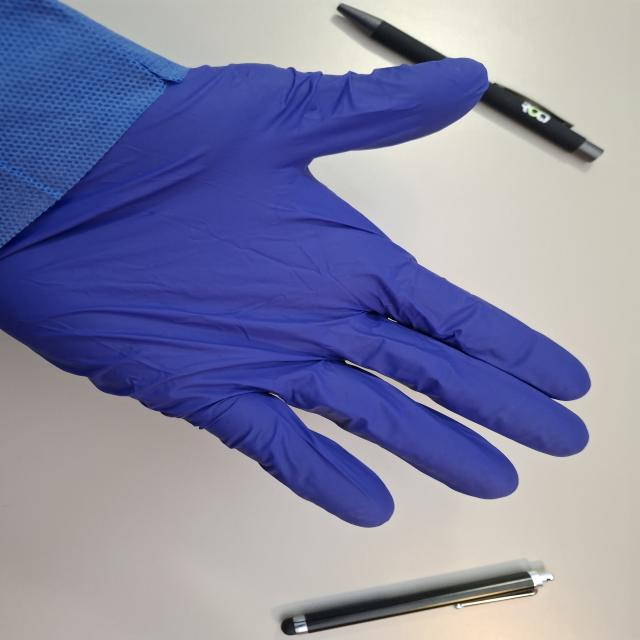glove_on: (6, 55, 596, 527)
